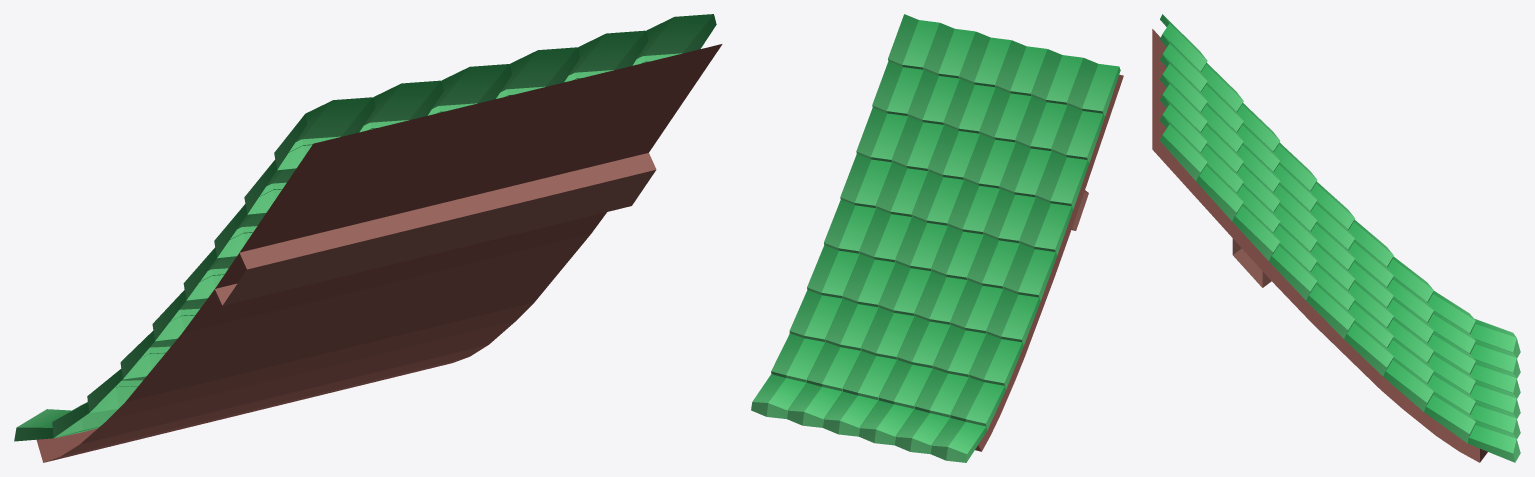
File: RoofPlane_3.fbx
The picture shows the model from 3 angles, left to right: view 1: azimuth 30°, elevation 25°; view 2: azimuth 150°, elevation 25°; view 3: azimuth 270°, elevation 25°; orthographic projection. The views are drawn at different scales.
Visible parts, largest first — view 1: RoofPlane_3; view 2: RoofPlane_3; view 3: RoofPlane_3.
Part boxes in pixels (<box>): RoofPlane_3: <box>14,14,722,462</box>; RoofPlane_3: <box>751,14,1123,462</box>; RoofPlane_3: <box>1152,14,1520,462</box>.
Size of the model in its own units: 2.4 by 3.08 by 3.04.
